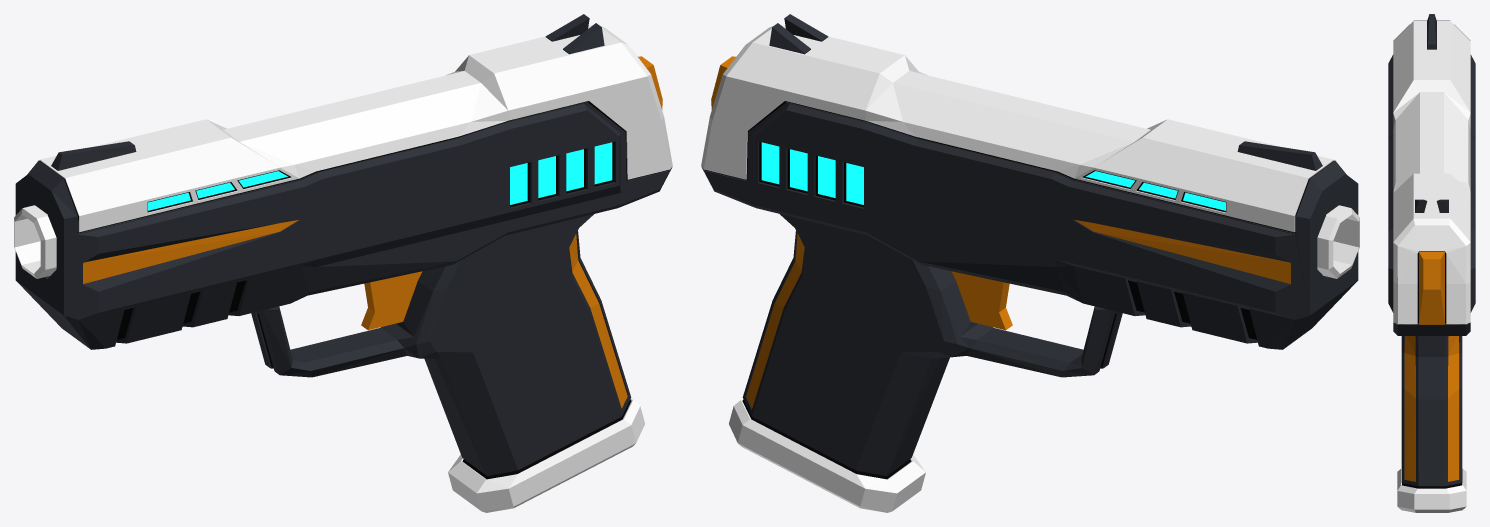
File: SM_Pistol.fbx
3 views of the same model, side by side, from view 1: azimuth 30°, elevation 25°; view 2: azimuth 150°, elevation 25°; view 3: azimuth 270°, elevation 25° (orthographic). The views are drawn at different scales.
Visible parts, largest first — view 1: SM_Pistol, SM_Pistol_Magazine; view 2: SM_Pistol, SM_Pistol_Magazine; view 3: SM_Pistol, SM_Pistol_Magazine.
Part boxes in pixels (<box>): SM_Pistol: <box>14,14,672,475</box>; SM_Pistol_Magazine: <box>448,398,644,512</box>; SM_Pistol: <box>701,14,1359,475</box>; SM_Pistol_Magazine: <box>729,398,925,512</box>; SM_Pistol: <box>1388,14,1475,486</box>; SM_Pistol_Magazine: <box>1397,468,1466,512</box>.
Size of the model in its own units: 38.41 by 26.44 by 6.32.
